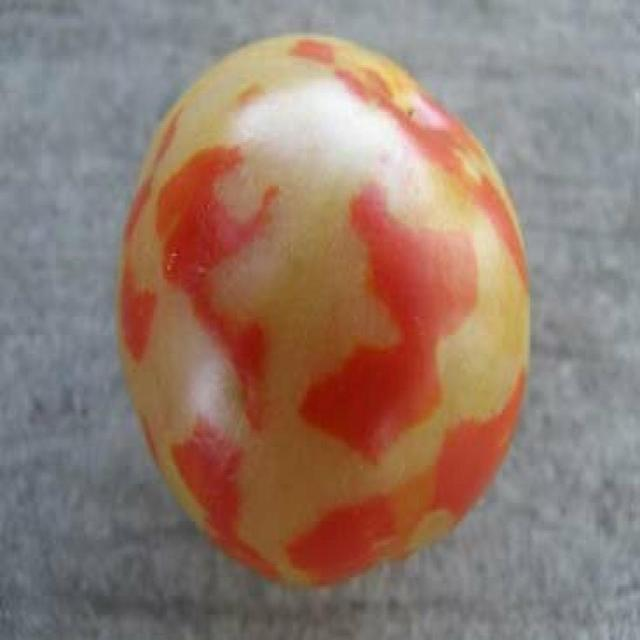Spotted wilt Virus Fruit: (77, 19, 354, 390)
